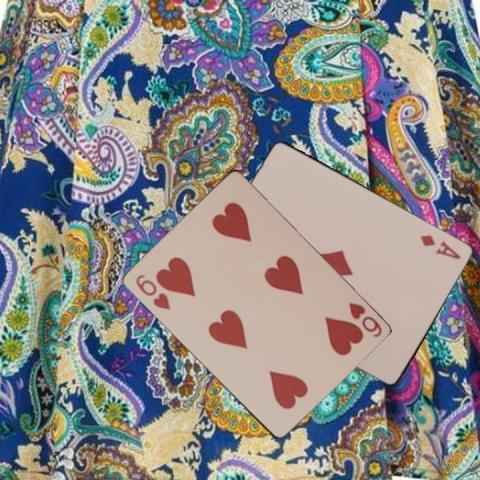6h: (132, 272, 171, 312), (345, 299, 383, 338)
Ad: (417, 231, 463, 261)
